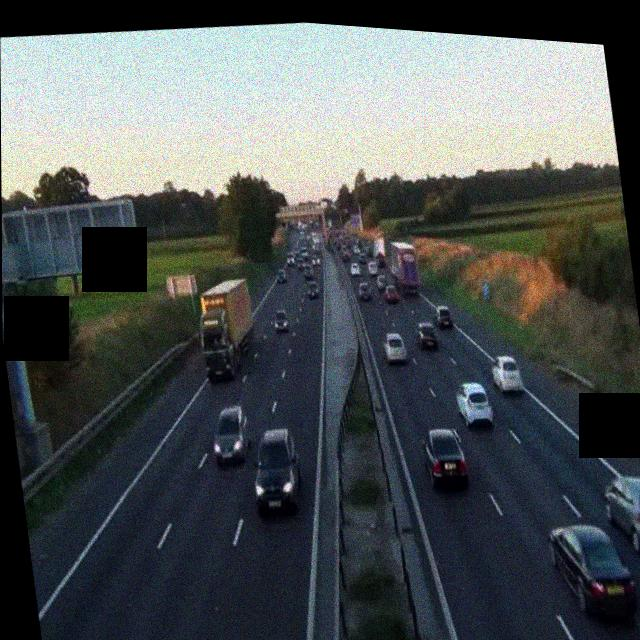car: (547, 515, 639, 626), (247, 421, 306, 517), (602, 470, 640, 556), (421, 423, 468, 490), (209, 403, 254, 469), (454, 378, 493, 429), (490, 352, 524, 396), (382, 329, 408, 365), (416, 320, 439, 351), (433, 304, 454, 330), (271, 307, 290, 334), (383, 282, 402, 305), (304, 277, 320, 300), (357, 282, 372, 302), (367, 259, 379, 276), (349, 261, 361, 277), (273, 267, 285, 282), (311, 251, 322, 267)
truck: (192, 273, 261, 384), (391, 237, 421, 297), (373, 233, 390, 263)
